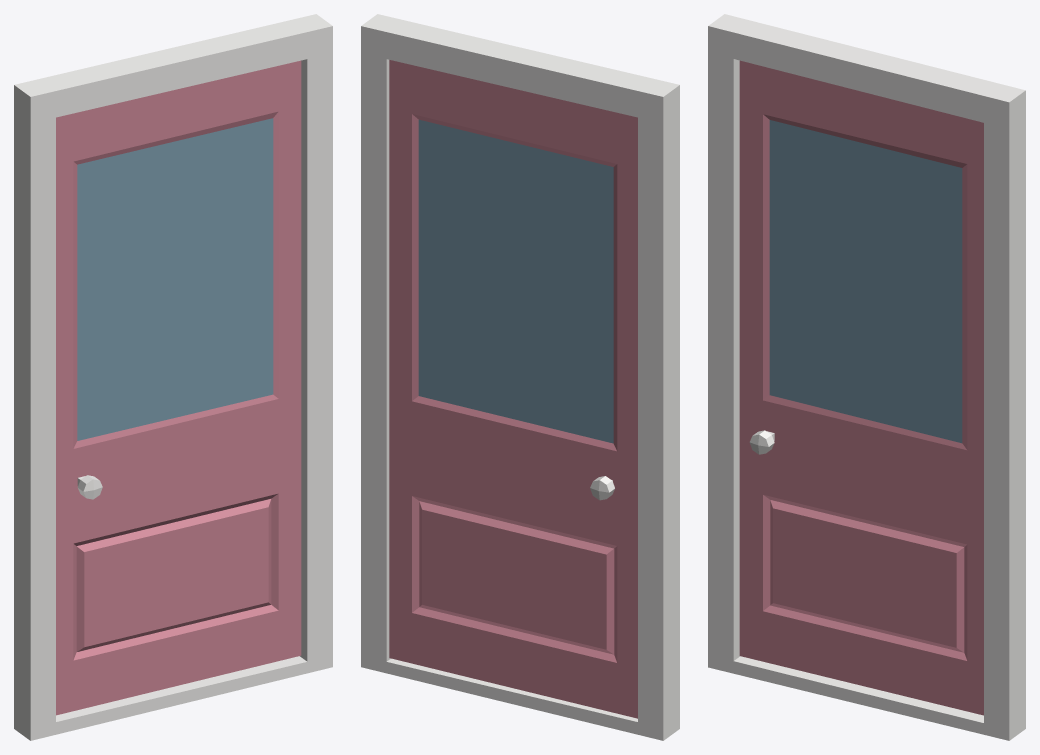
File: Door_3.glb
The picture shows the model from 3 angles, left to right: view 1: azimuth 30°, elevation 25°; view 2: azimuth 150°, elevation 25°; view 3: azimuth 330°, elevation 25°; orthographic projection.
Parts seen in each view (by area): view 1: Door_3; view 2: Door_3; view 3: Door_3.
Part boxes in pixels (box(x1,y1,x2,y2)): Door_3: box(14, 14, 332, 740); Door_3: box(361, 14, 679, 740); Door_3: box(708, 14, 1025, 740).
Size of the model in its own units: 1.64 by 3.35 by 0.2918.
1 material, 1 textured.
